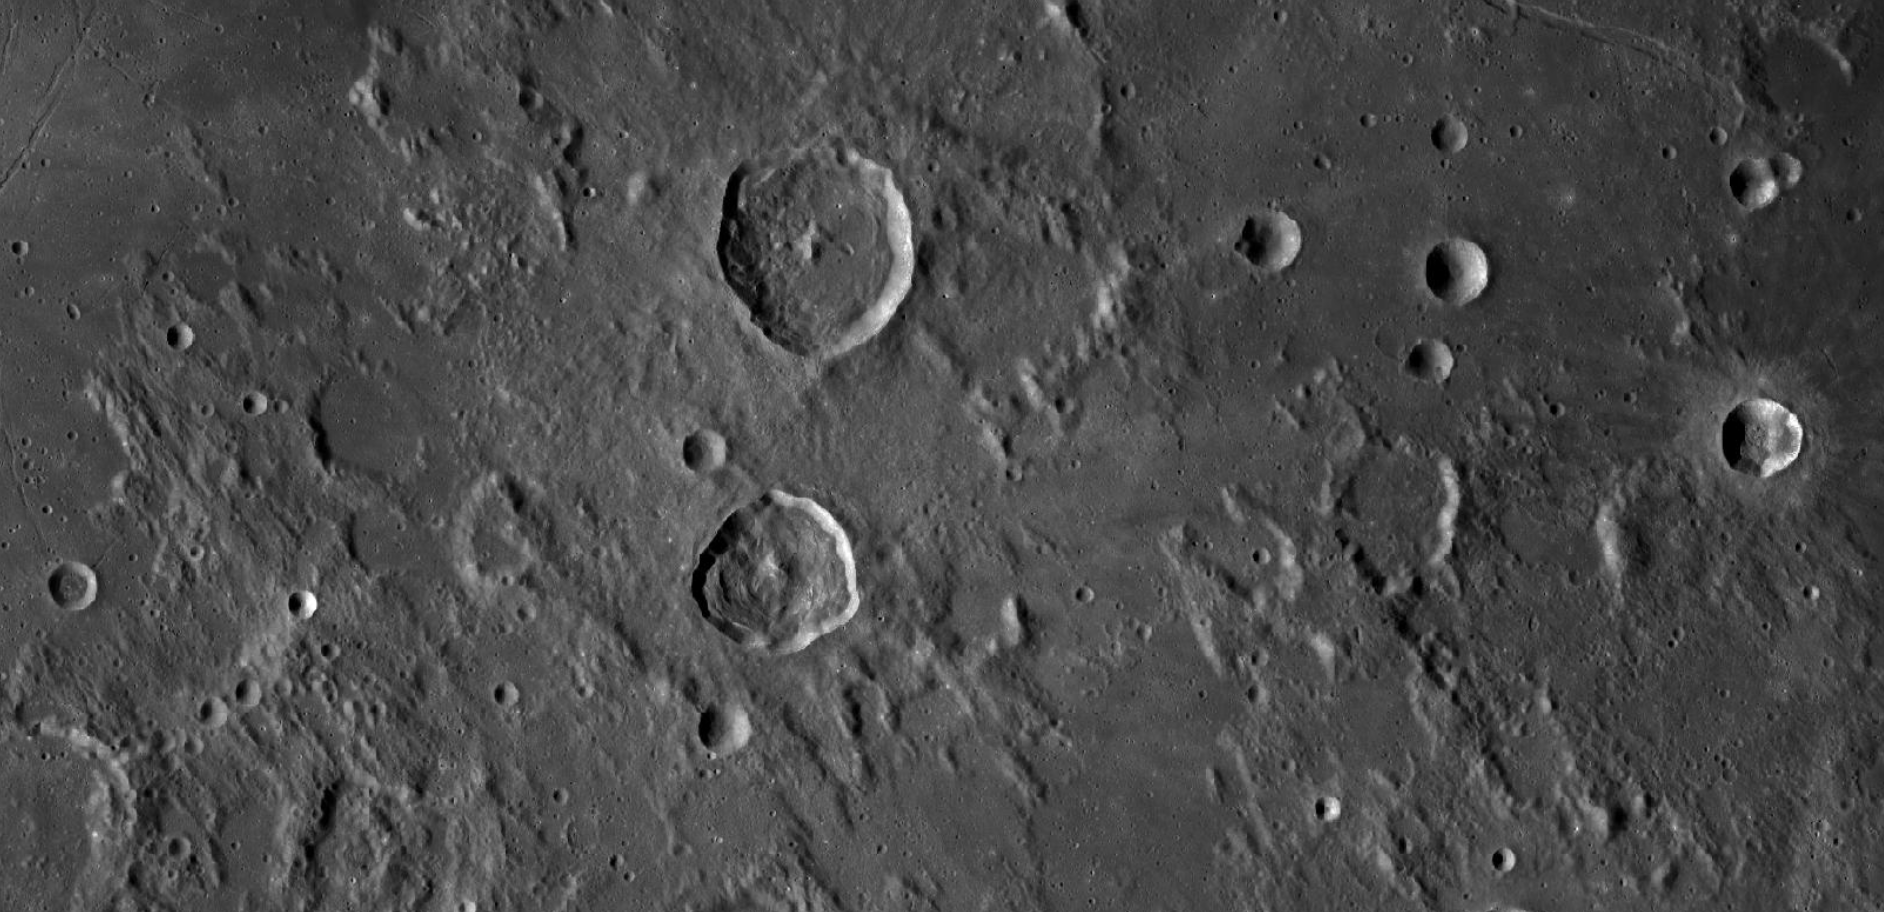crater: (691, 111, 950, 409), (649, 481, 901, 672), (1675, 360, 1840, 521), (1198, 175, 1317, 324), (1405, 217, 1514, 324), (38, 540, 127, 616), (1412, 99, 1481, 185), (1466, 822, 1540, 880), (1294, 777, 1363, 833), (56, 285, 102, 341)
